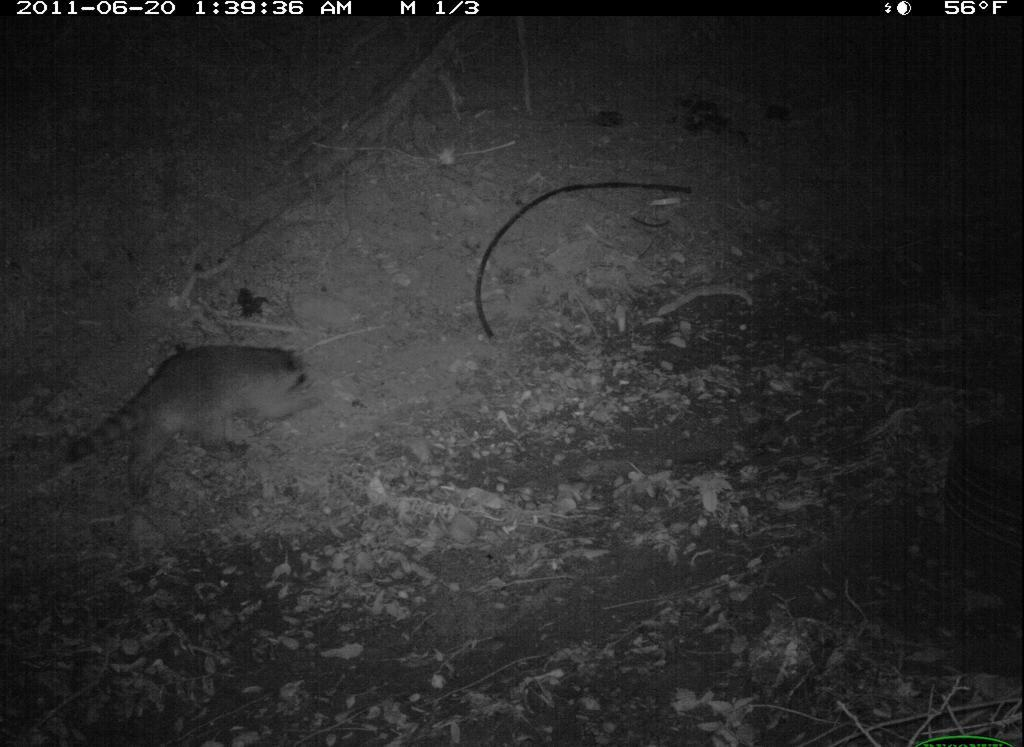raccoon: (53, 336, 319, 496)
